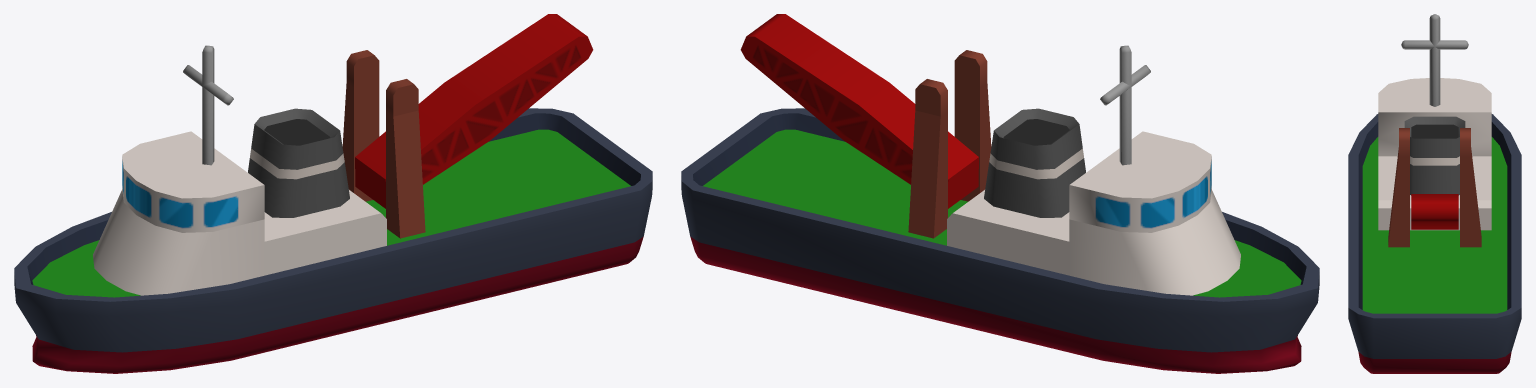
Rendered from FSW_Boat_02_Ship.fbx.
3 views of the same model, side by side, from view 1: azimuth 30°, elevation 25°; view 2: azimuth 150°, elevation 25°; view 3: azimuth 270°, elevation 25° (orthographic). The views are drawn at different scales.
Visible parts, largest first — view 1: FSW_Boat_02_Ship; view 2: FSW_Boat_02_Ship; view 3: FSW_Boat_02_Ship.
Boxes of the visible parts, left/top/right/bottom form: FSW_Boat_02_Ship: left=14, top=14, right=652, bottom=373; FSW_Boat_02_Ship: left=681, top=14, right=1319, bottom=373; FSW_Boat_02_Ship: left=1348, top=14, right=1521, bottom=373.
Size of the model in its own units: 491 by 219 by 159.
